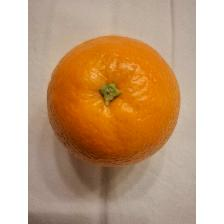Mandarine: (44, 34, 182, 170)
